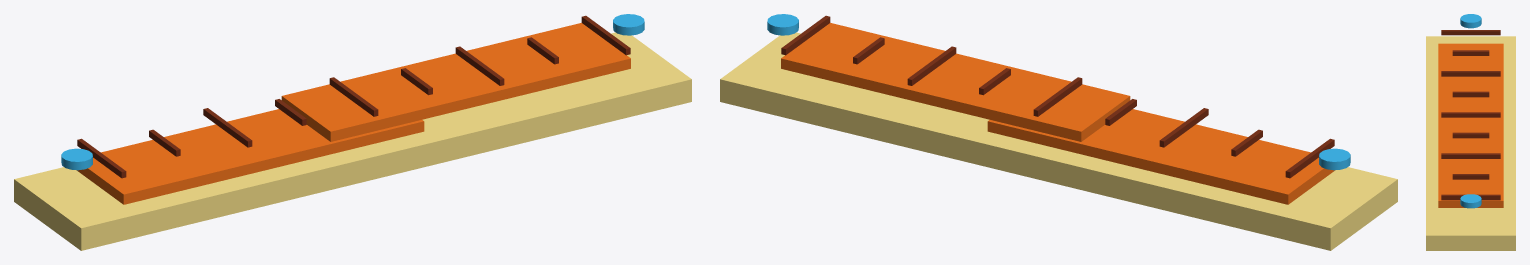
The model's file is toy_castle_extendable_ruler_bridge.glb.
The picture shows the model from 3 angles, left to right: view 1: azimuth 30°, elevation 25°; view 2: azimuth 150°, elevation 25°; view 3: azimuth 270°, elevation 25°; orthographic projection. The views are drawn at different scales.
Parts seen in each view (by area): view 1: solid_1, solid_3, solid_2, solid_14, solid_13, solid_6, solid_10, solid_8, solid_12, solid_4; view 2: solid_1, solid_3, solid_2, solid_14, solid_13, solid_6, solid_10, solid_8, solid_12, solid_4; view 3: solid_1, solid_3, solid_2, solid_4, solid_6, solid_8, solid_10, solid_12, solid_13, solid_14, solid_7, solid_9 (+2 smaller).
Boxes of the visible parts, box(x1,y1,x2,y2) form: solid_1: box(14, 32, 691, 250); solid_3: box(281, 23, 630, 141); solid_2: box(76, 109, 424, 204); solid_14: box(613, 14, 644, 35); solid_13: box(61, 148, 92, 170); solid_6: box(203, 108, 252, 147); solid_10: box(455, 46, 504, 85); solid_8: box(329, 77, 378, 116); solid_12: box(581, 15, 630, 55); solid_4: box(77, 138, 126, 178); solid_1: box(720, 32, 1397, 250); solid_3: box(781, 23, 1130, 141); solid_2: box(987, 109, 1335, 204); solid_14: box(767, 14, 798, 35); solid_13: box(1319, 148, 1350, 170); solid_6: box(1159, 108, 1208, 147); solid_10: box(907, 46, 956, 85); solid_8: box(1033, 77, 1082, 116); solid_12: box(781, 15, 830, 55); solid_4: box(1285, 138, 1334, 178); solid_1: box(1426, 36, 1515, 250); solid_3: box(1438, 103, 1503, 207); solid_2: box(1438, 43, 1503, 102); solid_4: box(1441, 30, 1500, 35); solid_6: box(1441, 71, 1500, 76); solid_8: box(1441, 112, 1500, 117); solid_10: box(1441, 153, 1500, 158); solid_12: box(1441, 194, 1500, 200); solid_13: box(1460, 14, 1481, 28); solid_14: box(1460, 194, 1481, 208); solid_7: box(1452, 91, 1489, 97); solid_9: box(1452, 132, 1489, 138).
Size of the model in its own units: 6.2 by 0.62 by 1.18.
